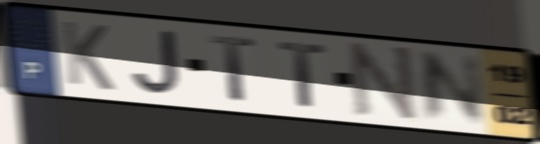J: (130, 29, 183, 97)
K: (58, 17, 116, 93)
N: (349, 40, 419, 126), (418, 50, 489, 125)
T: (274, 38, 330, 111), (207, 32, 259, 105)
